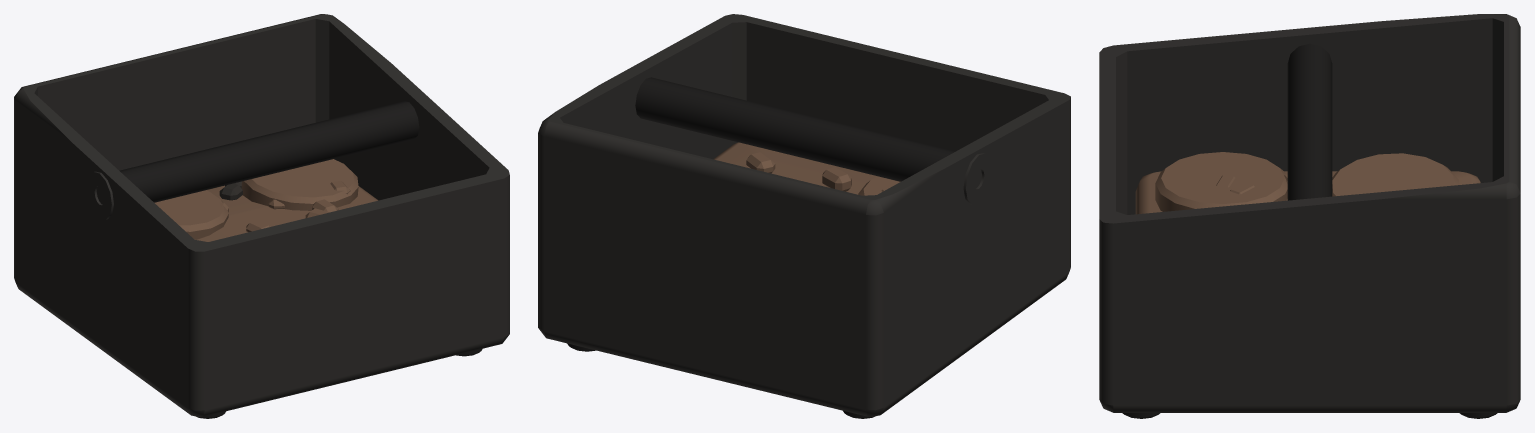
Rendered from coffee-knock-box-3638f5d51954.glb.
3 views of the same model, side by side, from view 1: azimuth 30°, elevation 25°; view 2: azimuth 150°, elevation 25°; view 3: azimuth 270°, elevation 25° (orthographic). The views are drawn at different scales.
Visible parts, largest first — view 1: plastic-dark, rubber-foot, wood; view 2: plastic-dark, rubber-foot, wood; view 3: plastic-dark, wood, rubber-foot.
Boxes of the visible parts, <box> form: plastic-dark: <box>14,14,509,416</box>; rubber-foot: <box>119,101,482,418</box>; wood: <box>154,159,378,241</box>; plastic-dark: <box>538,14,1070,416</box>; rubber-foot: <box>567,77,954,418</box>; wood: <box>713,142,900,195</box>; plastic-dark: <box>1099,14,1520,412</box>; wood: <box>1135,152,1480,214</box>; rubber-foot: <box>1122,43,1497,418</box>.
Bounding box in the file's own units: 0.151 × 0.0946 × 0.15.
